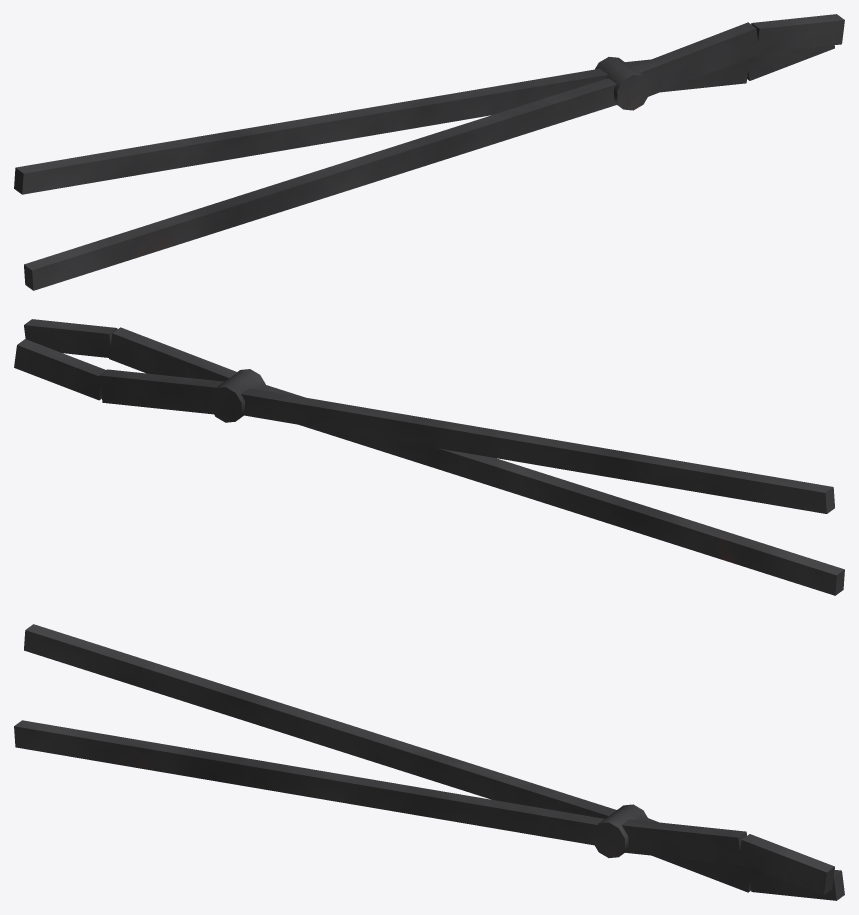
Rendered from SM_Tongs.glb.
3 renders of one model, top to bottom at view 1: azimuth 30°, elevation 25°; view 2: azimuth 150°, elevation 25°; view 3: azimuth 330°, elevation 25°, orthographic.
Visible parts, largest first — view 1: SM_Tongs; view 2: SM_Tongs; view 3: SM_Tongs.
Boxes of the visible parts, x1,y1,x2,y2 form: SM_Tongs: (14,14,844,290); SM_Tongs: (14,319,844,595); SM_Tongs: (14,624,844,900).
Bounding box in the file's own units: 0.5716 × 0.074 × 0.03.
1 material, 1 textured.
